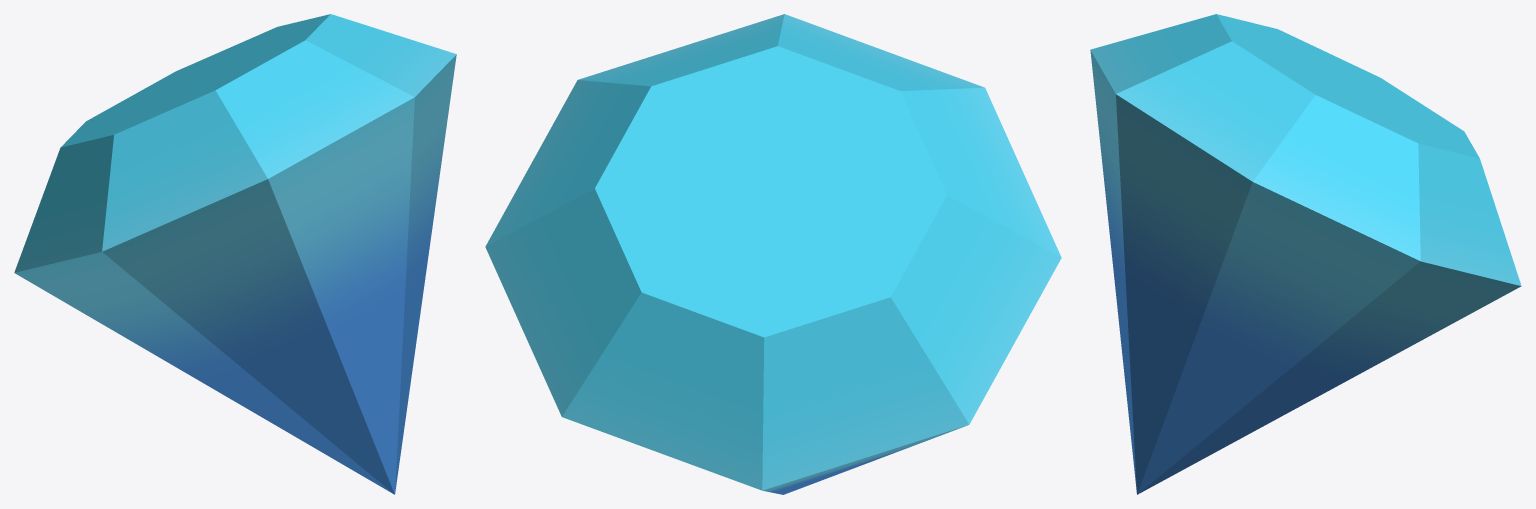
Rendered from Diamond.fbx.
3 renders of one model, left to right at view 1: azimuth 30°, elevation 25°; view 2: azimuth 150°, elevation 25°; view 3: azimuth 270°, elevation 25°, orthographic. The views are drawn at different scales.
Parts seen in each view (by area): view 1: Cone.002; view 2: Cone.002; view 3: Cone.002.
Part boxes in pixels (x1,y1,x2,y2): Cone.002: [14, 14, 456, 494]; Cone.002: [485, 14, 1061, 494]; Cone.002: [1090, 14, 1521, 494].
Bounding box in the file's own units: 182 × 192 × 173.
1 material, 1 textured.
